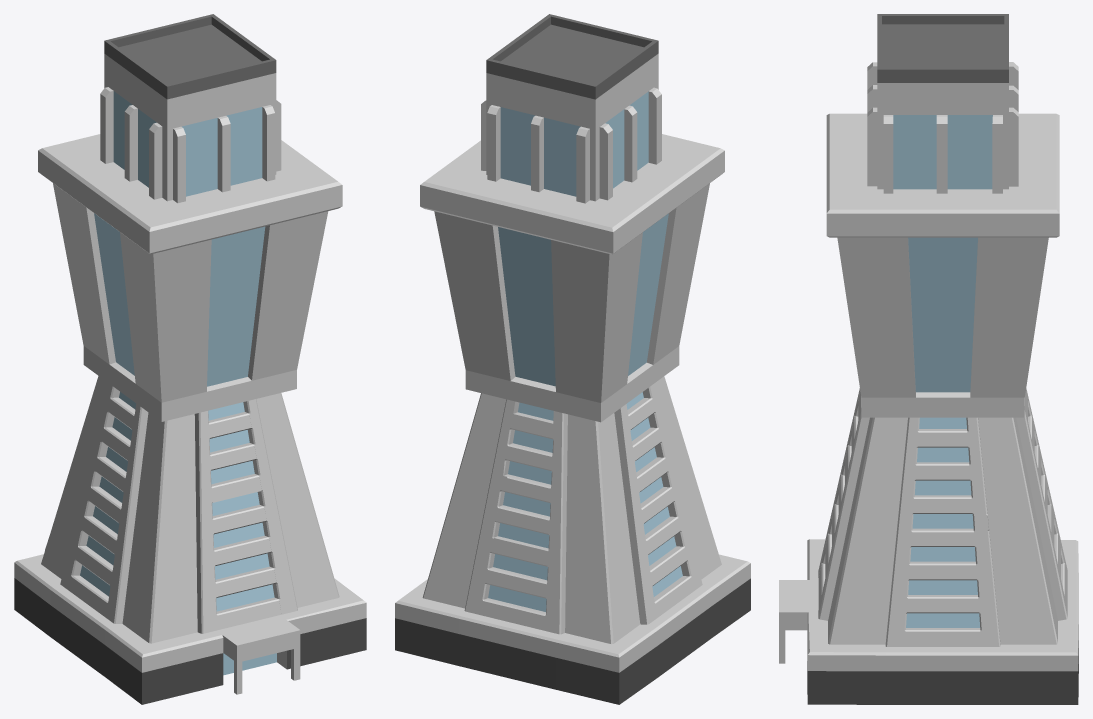
Rendered from Apartment alex.fbx.
3 renders of one model, left to right at view 1: azimuth 30°, elevation 25°; view 2: azimuth 150°, elevation 25°; view 3: azimuth 270°, elevation 25°, orthographic. The views are drawn at different scales.
Parts seen in each view (by area): view 1: Cube.002, Cube.006, Cube.051, Cube.052; view 2: Cube.002, Cube.006, Cube.051, Cube.052; view 3: Cube.002, Cube.006, Cube.051, Cube.052.
Boxes of the visible parts, x1,y1,x2,y2 form: Cube.002: (14,54,366,694); Cube.006: (80,91,276,675); Cube.051: (14,578,366,704); Cube.052: (104,14,276,99); Cube.002: (395,53,750,672); Cube.006: (488,91,682,611); Cube.051: (395,578,750,704); Cube.052: (486,14,658,99); Cube.002: (779,62,1078,671); Cube.006: (893,115,992,627); Cube.051: (807,640,1078,704); Cube.052: (877,14,1008,82).
Size of the model in its own units: 2785 by 6831 by 3063.
